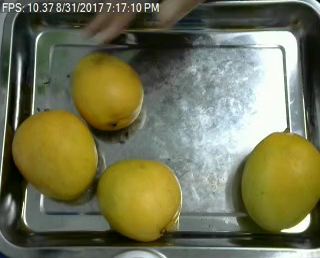Mango: (239, 131, 320, 233), (12, 109, 97, 199), (97, 159, 180, 240), (74, 52, 144, 130)
